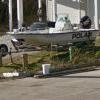Boat: (8, 19, 98, 58)
